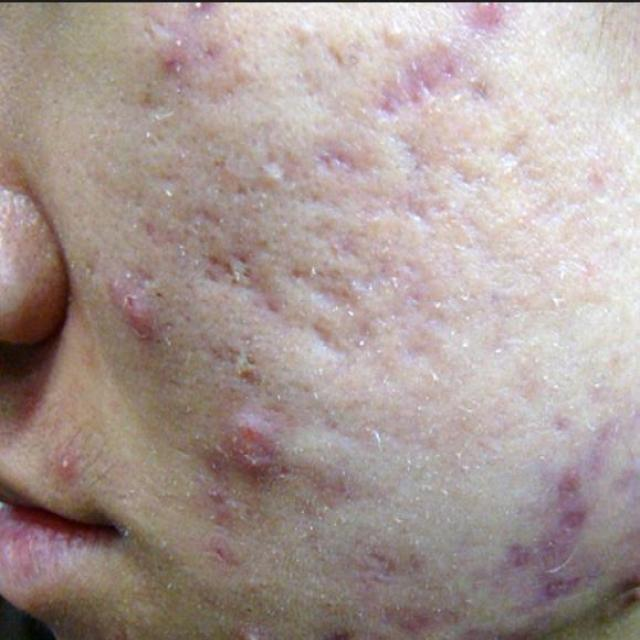acne_scars: (523, 468, 593, 634), (291, 268, 358, 316), (202, 260, 269, 305), (312, 148, 373, 195), (172, 198, 229, 244), (375, 97, 440, 133), (405, 196, 452, 235)
comedone: (280, 26, 347, 66), (223, 50, 270, 96), (250, 162, 294, 205), (381, 17, 421, 59)
pustule: (40, 444, 92, 500)
sebo-crystan-conglo: (206, 398, 296, 498), (120, 286, 162, 362)
